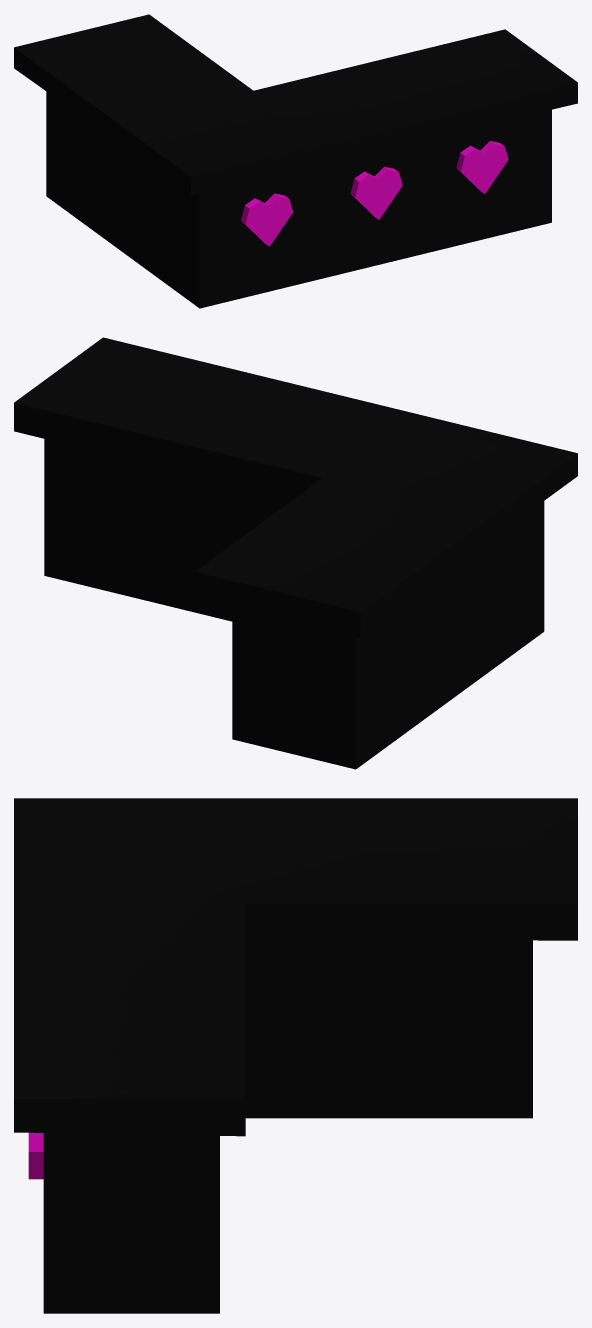
The model's file is MESA RECEPCION.fbx.
3 renders of one model, top to bottom at view 1: azimuth 30°, elevation 25°; view 2: azimuth 150°, elevation 25°; view 3: azimuth 270°, elevation 25°, orthographic. The views are drawn at different scales.
Visible parts, largest first — view 1: recepcion, CORAZONES.001, CORAZONES, CORAZONES.002; view 2: recepcion; view 3: recepcion, CORAZONES.001.
Part boxes in pixels (bbox=[...]): recepcion: bbox=[14, 14, 577, 308]; CORAZONES.001: bbox=[456, 141, 508, 193]; CORAZONES: bbox=[241, 193, 292, 246]; CORAZONES.002: bbox=[350, 166, 402, 219]; recepcion: bbox=[14, 337, 577, 769]; recepcion: bbox=[14, 798, 577, 1313]; CORAZONES.001: bbox=[28, 1132, 43, 1179].
Bounding box in the file's own units: 836 × 295 × 662.
